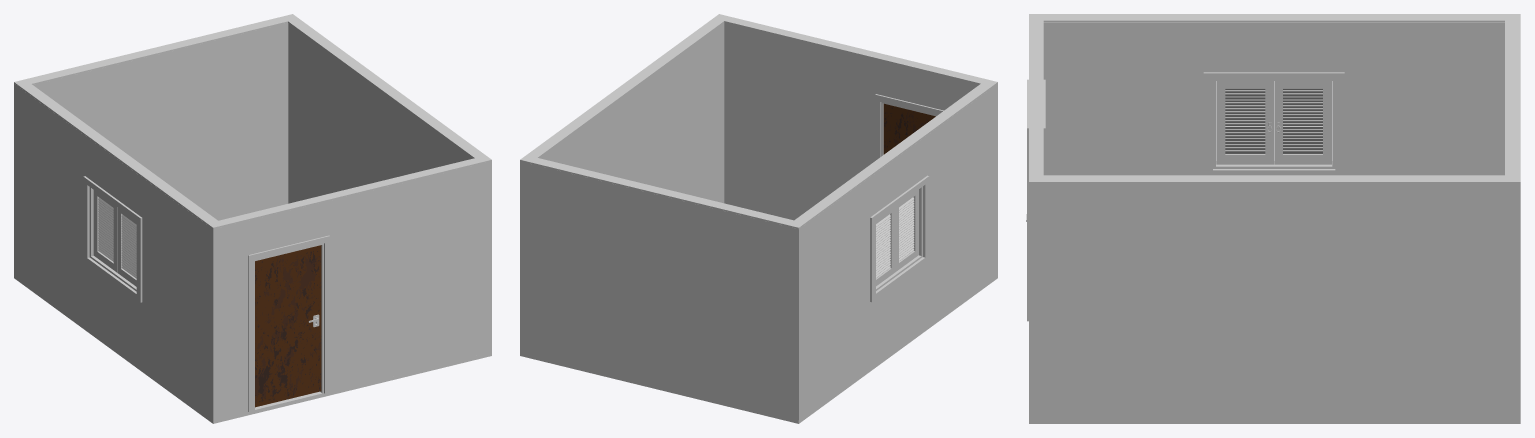
The model's file is Quarto Criança.fbx.
3 views of the same model, side by side, from view 1: azimuth 30°, elevation 25°; view 2: azimuth 150°, elevation 25°; view 3: azimuth 270°, elevation 25° (orthographic). The views are drawn at different scales.
Visible parts, largest first — view 1: ParedeQuartoSolteiro01, ParedeQuartoSolteiro02, ParedeQuartoSolteiro03, ParedeQuartoSolteiro04, PortaSolteiro, QuartoSolteiroTeto, PortaQuartoSolteiroAbertura, JanelaSolteiroAbertura, QuartoSolteiroChão, JanelaSolteiro02, JanelaSolteiro01; view 2: ParedeQuartoSolteiro03, ParedeQuartoSolteiro02, ParedeQuartoSolteiro01, ParedeQuartoSolteiro04, QuartoSolteiroTeto, JanelaSolteiroAbertura, QuartoSolteiroChão, JanelaSolteiro01, PortaSolteiro, JanelaSolteiro02, PortaQuartoSolteiroAbertura; view 3: ParedeQuartoSolteiro04, ParedeQuartoSolteiro02, QuartoSolteiroTeto, JanelaSolteiroAbertura, JanelaSolteiro01, JanelaSolteiro02, ParedeQuartoSolteiro01, QuartoSolteiroChão, PortaQuartoSolteiroAbertura.
Boxes of the visible parts, x1,y1,x2,y2 form: ParedeQuartoSolteiro01: (207,161,491,419); ParedeQuartoSolteiro02: (20,88,207,415); ParedeQuartoSolteiro03: (14,23,288,278); ParedeQuartoSolteiro04: (288,23,472,203); PortaSolteiro: (255,245,321,407); QuartoSolteiroTeto: (14,14,491,229); PortaQuartoSolteiroAbertura: (248,235,329,412); JanelaSolteiroAbertura: (83,176,142,302); QuartoSolteiroChão: (14,274,491,423); JanelaSolteiro02: (93,190,117,272); JanelaSolteiro01: (117,207,136,286); ParedeQuartoSolteiro03: (531,164,805,419); ParedeQuartoSolteiro02: (805,88,991,414); ParedeQuartoSolteiro01: (724,22,997,278); ParedeQuartoSolteiro04: (520,23,724,354); QuartoSolteiroTeto: (520,14,997,229); JanelaSolteiroAbertura: (870,175,929,302); QuartoSolteiroChão: (520,274,997,423); JanelaSolteiro01: (895,189,918,271); PortaSolteiro: (883,103,935,154); JanelaSolteiro02: (876,207,895,286); PortaQuartoSolteiroAbertura: (875,94,943,160); ParedeQuartoSolteiro04: (1043,183,1520,419); ParedeQuartoSolteiro02: (1043,22,1504,175); QuartoSolteiroTeto: (1029,14,1520,183); JanelaSolteiroAbertura: (1203,72,1344,175); JanelaSolteiro01: (1216,81,1273,164); JanelaSolteiro02: (1274,81,1331,164); ParedeQuartoSolteiro01: (1029,183,1043,419); QuartoSolteiroChão: (1029,419,1520,423); PortaQuartoSolteiroAbertura: (1027,79,1045,321).
Size of the model in its own units: 151 by 101 by 186.
